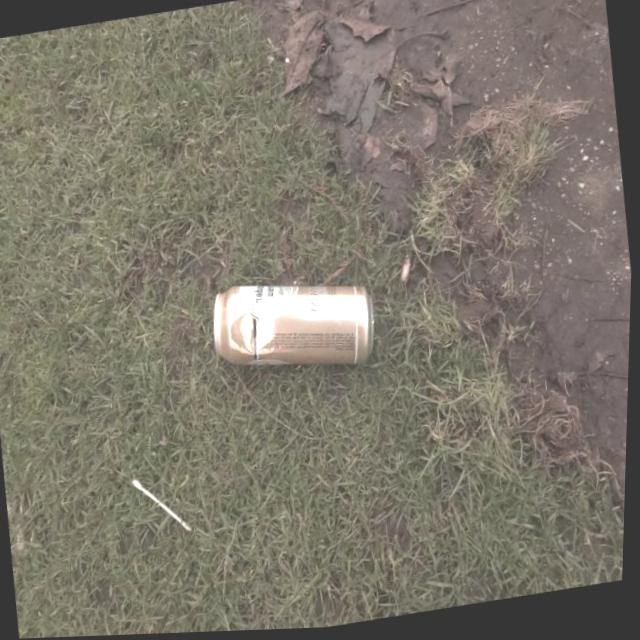Can-Metal: (205, 259, 385, 399)
